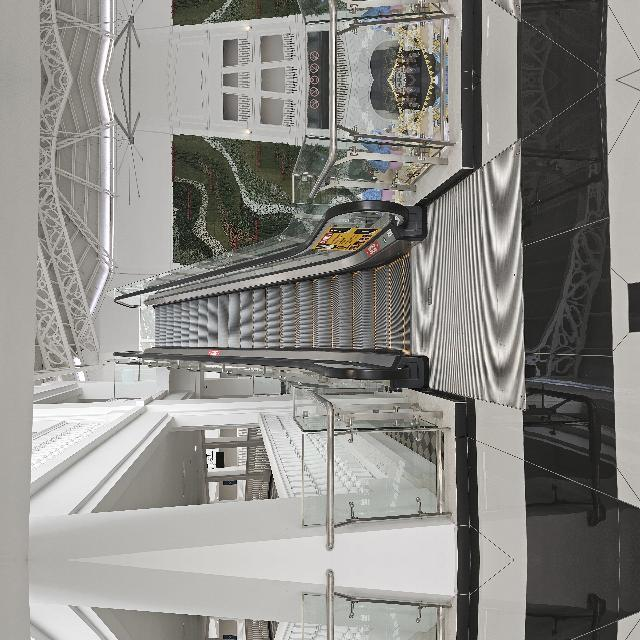stair: (206, 230, 308, 492), (206, 628, 307, 640)
